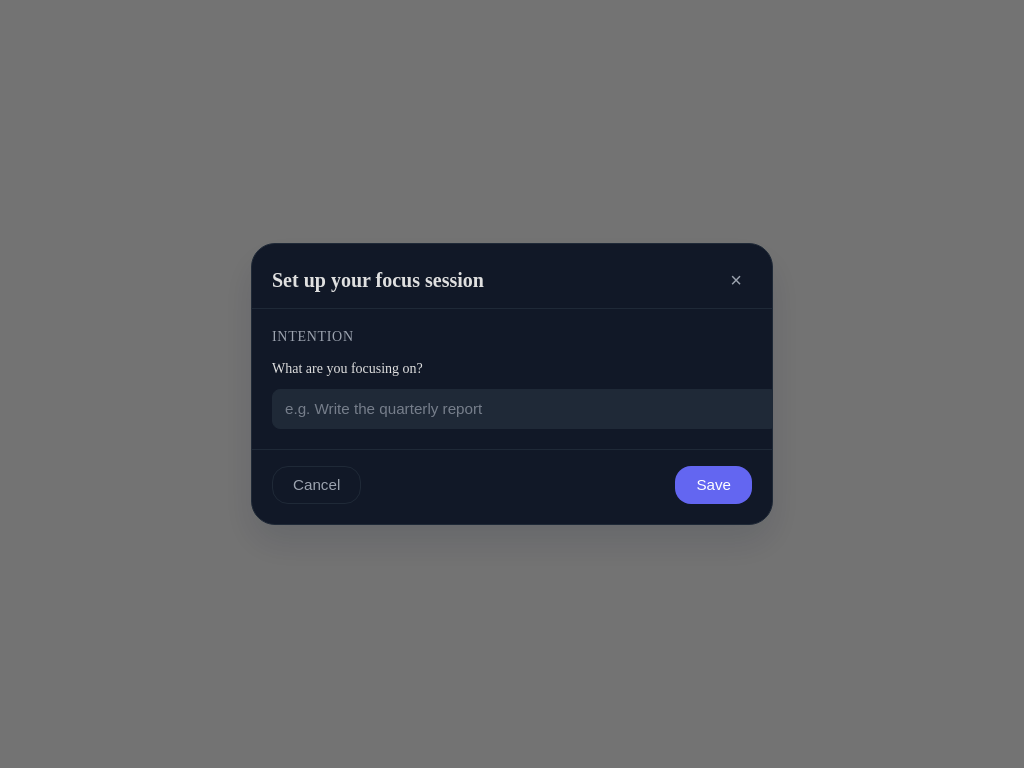
Scenario: FocusSetupWizard › allows going back and forth
Type "Deep work" into the field labelled "What are you focusing on?". click: (525, 409)
box: top-left (272, 389), bottom-right (778, 429)
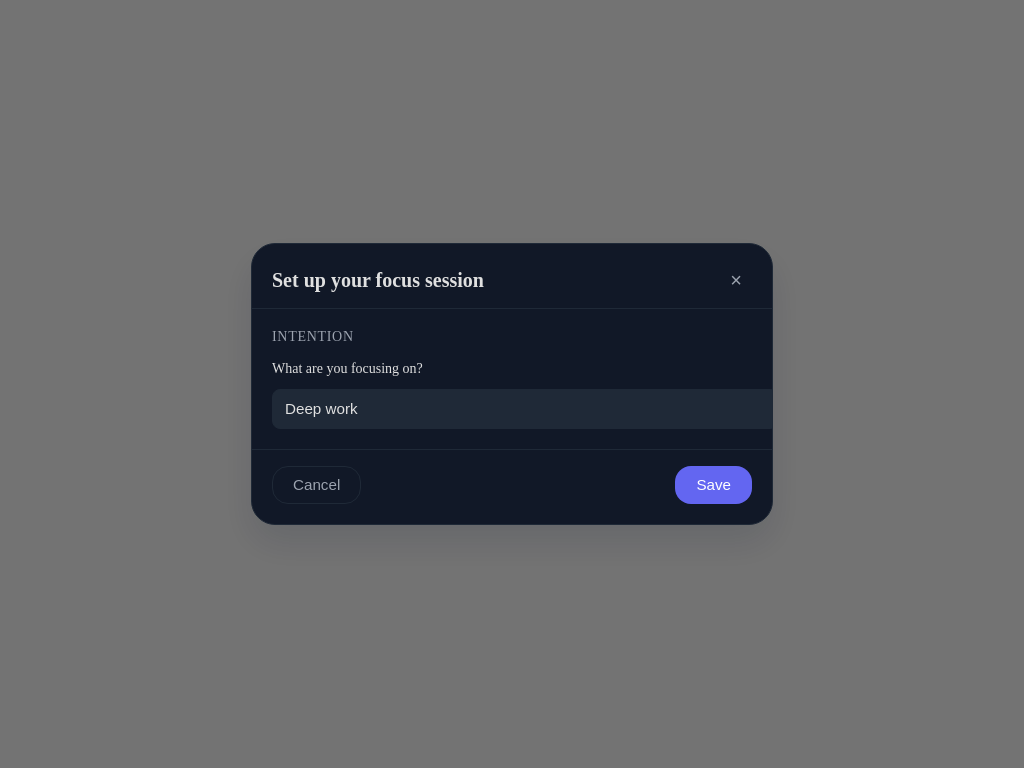
Click the button "Save". click: (714, 485)
box: top-left (675, 466), bottom-right (752, 504)
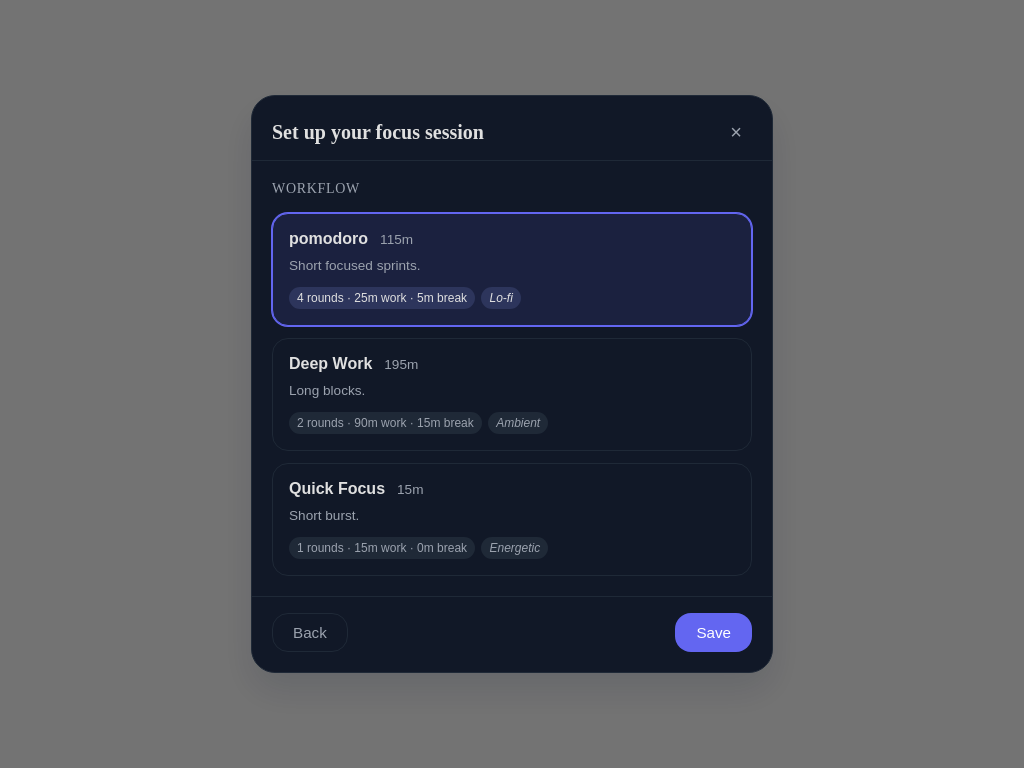
Result: the element named "Choose a workflow" is shown at top-left (272, 213), bottom-right (752, 576)
Click the button "Back". click: (310, 633)
box: top-left (272, 614), bottom-right (348, 652)
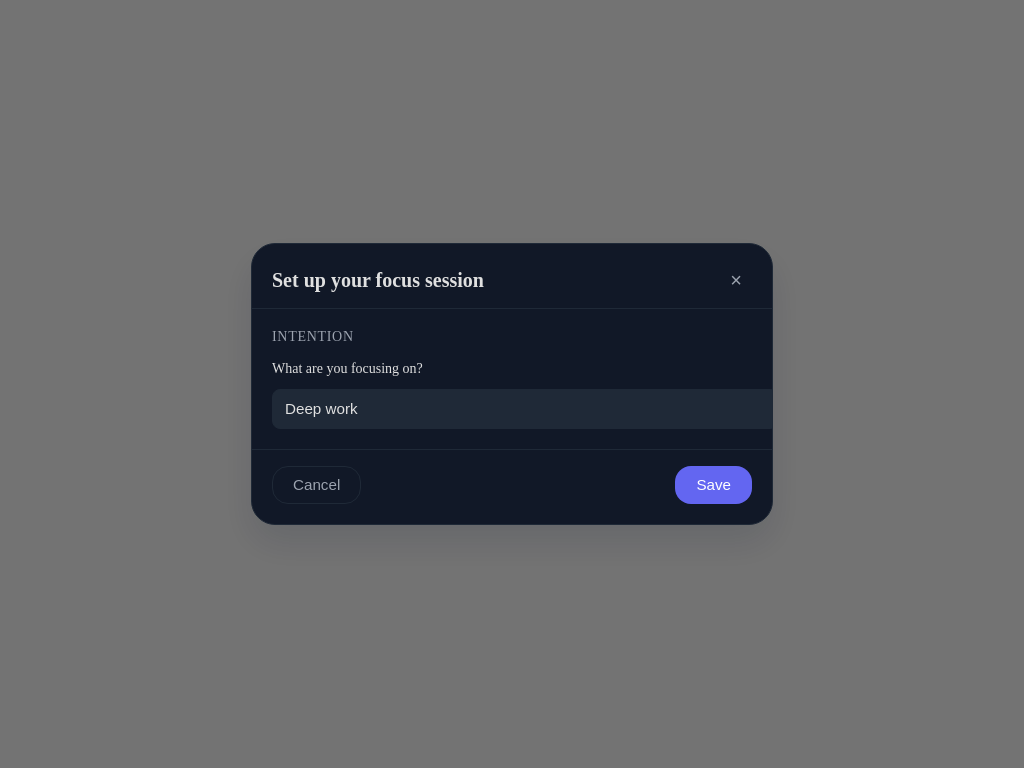
Result: the field showing "Deep work" is shown at top-left (272, 389), bottom-right (772, 429)
